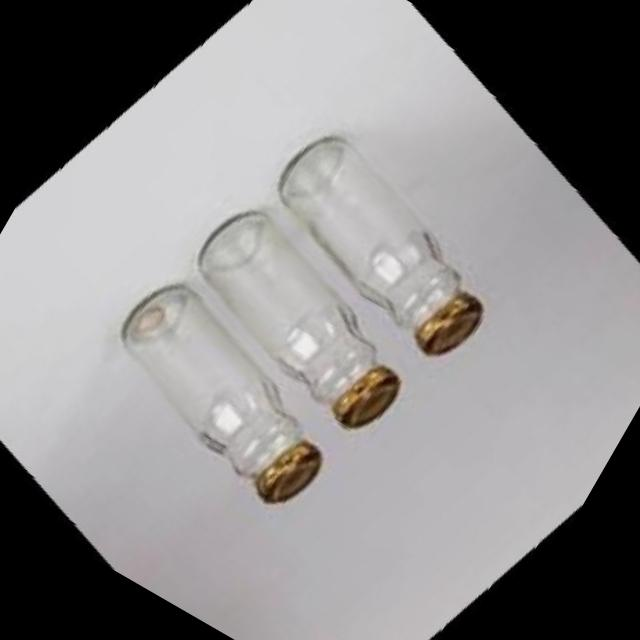ToplesKaca: (82, 87, 530, 554)
